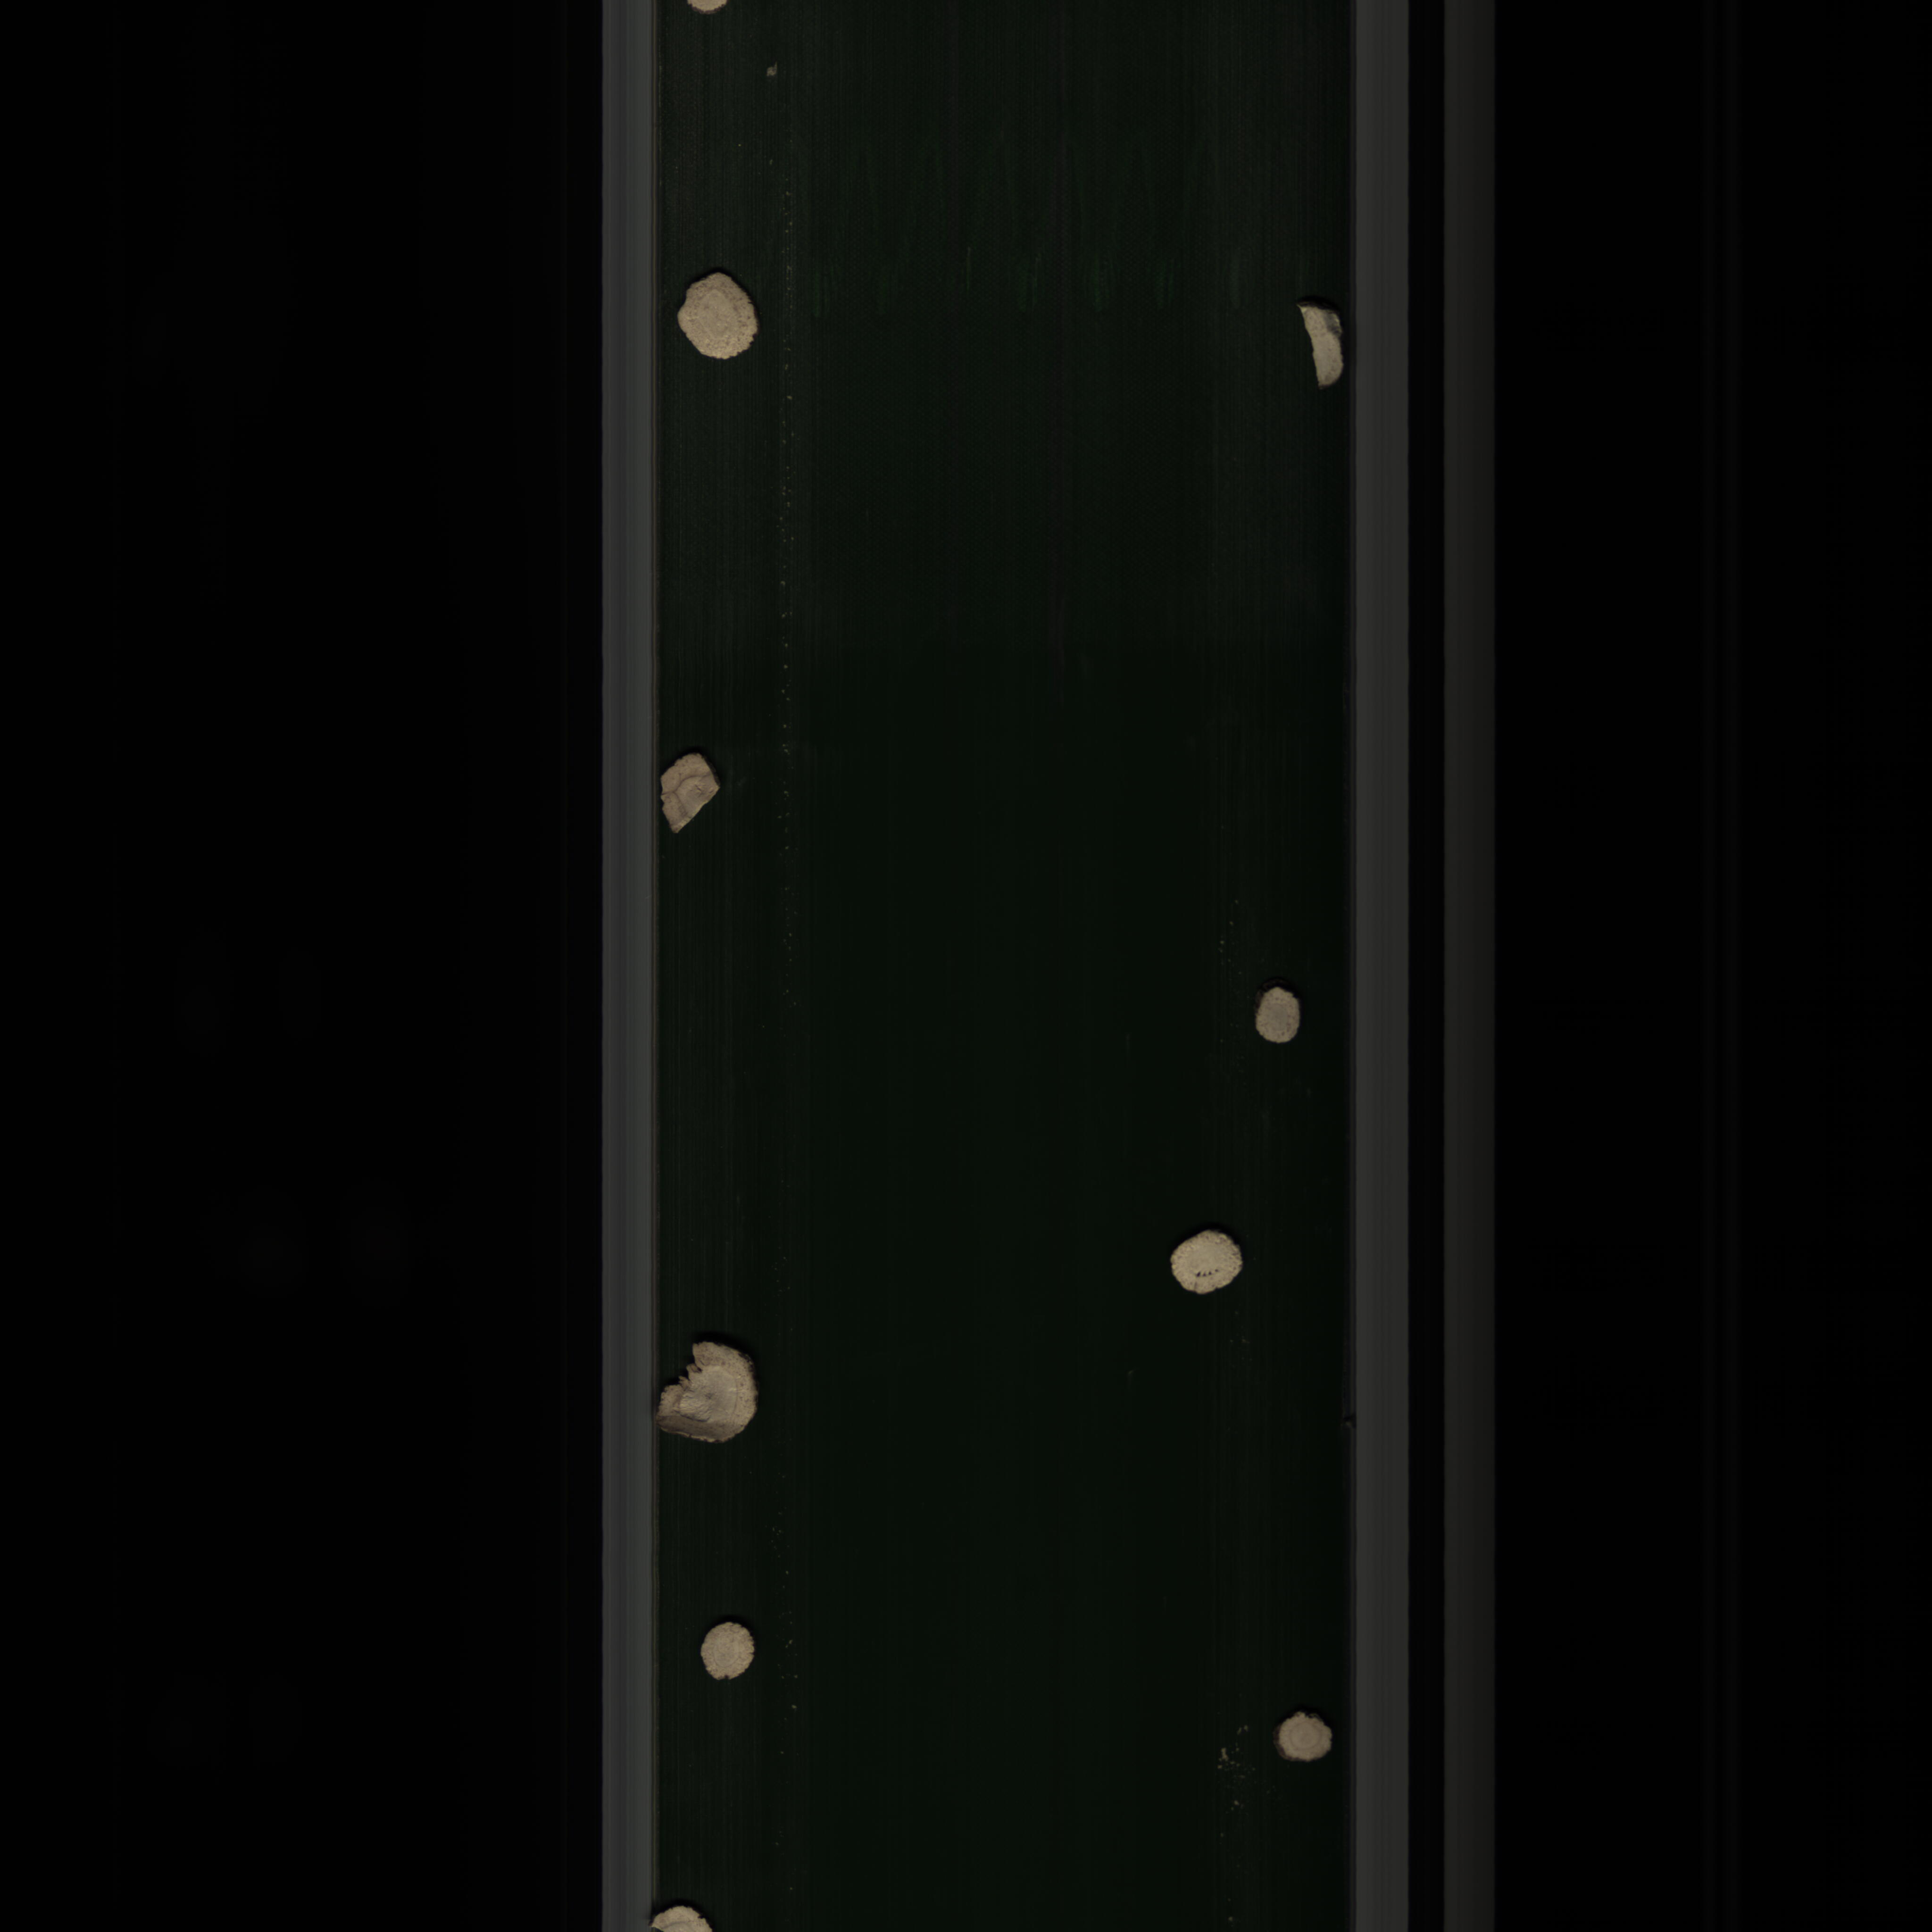debris: (648, 1327, 775, 1461), (651, 747, 736, 844), (1290, 292, 1357, 403)
